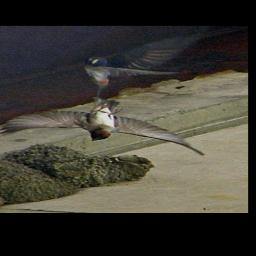Swallow: (0, 95, 209, 157)
